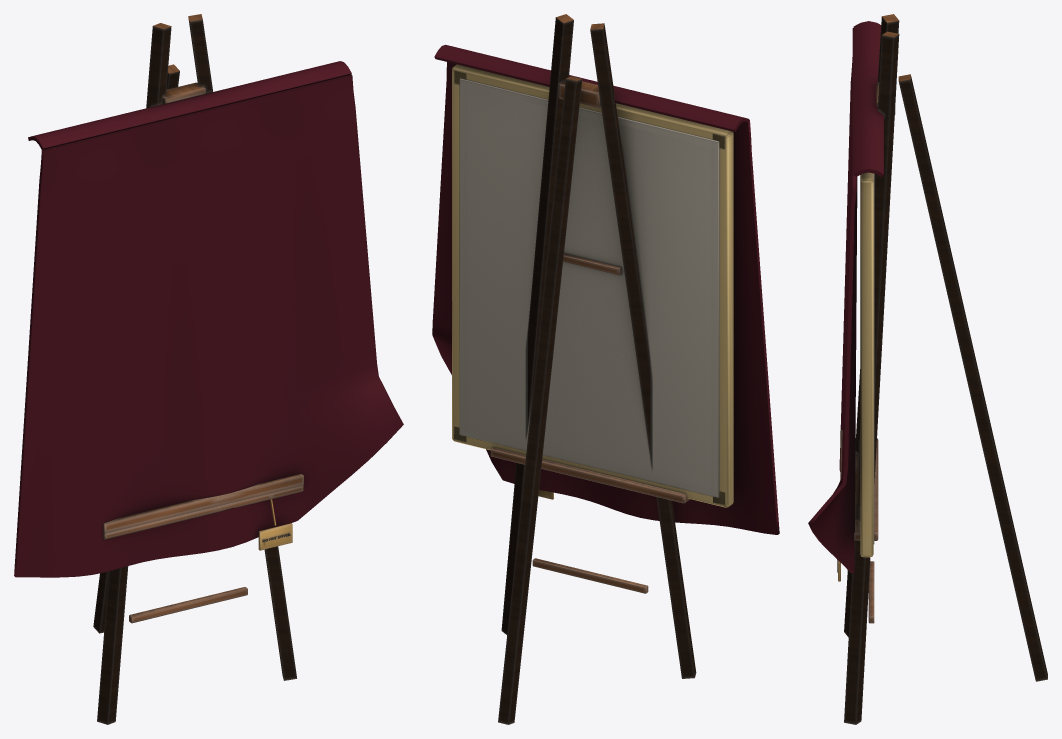
File: EaselCovered.fbx
3 renders of one model, left to right at view 1: azimuth 30°, elevation 25°; view 2: azimuth 150°, elevation 25°; view 3: azimuth 270°, elevation 25°, orthographic. The views are drawn at different scales.
Visible parts, largest first — view 1: EaselCovered; view 2: EaselCovered; view 3: EaselCovered.
Part boxes in pixels (x1,y1,x2,y2): EaselCovered: (14,14,403,724); EaselCovered: (432,14,779,724); EaselCovered: (808,14,1047,724).
Bounding box in the file's own units: 441 × 762 × 254.
